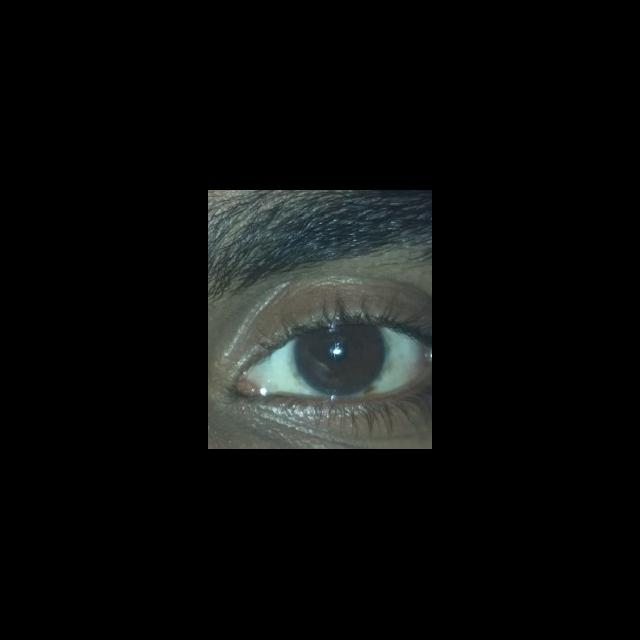eye: (242, 322, 432, 401)
iris: (294, 326, 386, 395)
